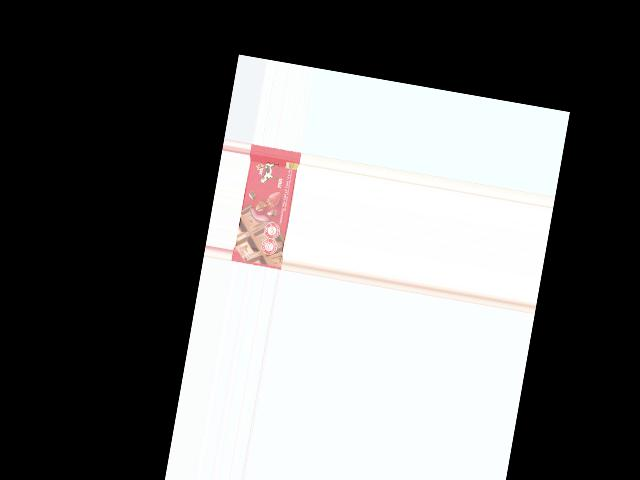chocolate: (231, 143, 301, 269)
